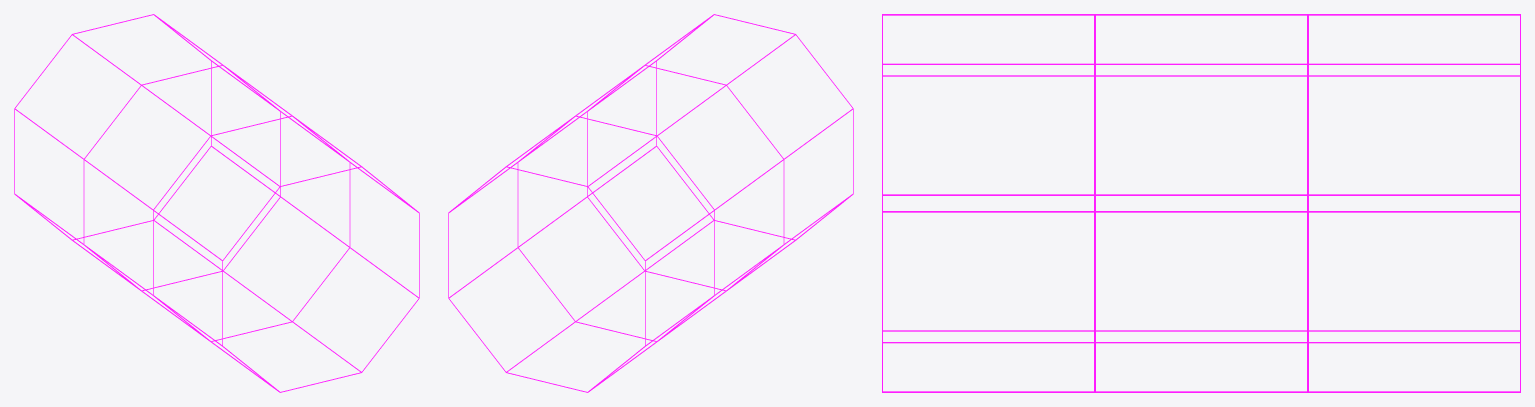
The model's file is Octagon.fbx.
3 renders of one model, left to right at view 1: azimuth 30°, elevation 25°; view 2: azimuth 150°, elevation 25°; view 3: azimuth 270°, elevation 25°, orthographic. The views are drawn at different scales.
Visible parts, largest first — view 1: Octagon.001; view 2: Octagon.001; view 3: Octagon.001.
Part boxes in pixels (x1,y1,x2,y2): Octagon.001: (14, 14, 419, 392); Octagon.001: (448, 14, 853, 392); Octagon.001: (882, 14, 1520, 392).
Bounding box in the file's own units: 633 × 633 × 1154.
